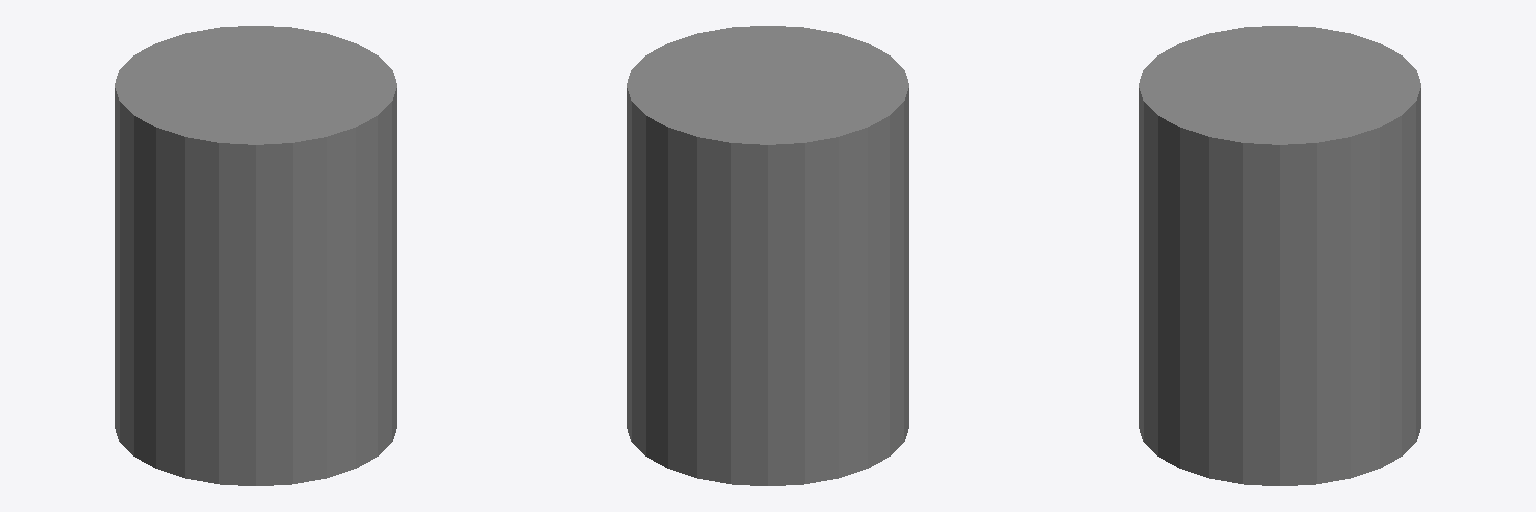
File: Barrel.obj
The picture shows the model from 3 angles: view 1: azimuth 30°, elevation 25°; view 2: azimuth 150°, elevation 25°; view 3: azimuth 270°, elevation 25°; orthographic projection.
Parts seen in each view (by area): view 1: Barrel; view 2: Barrel; view 3: Barrel.
Part boxes in pixels (x1,y1,x2,y2): Barrel: (115, 26, 396, 485); Barrel: (627, 26, 908, 485); Barrel: (1139, 26, 1420, 485).
Bounding box in the file's own units: 48 × 64 × 48.